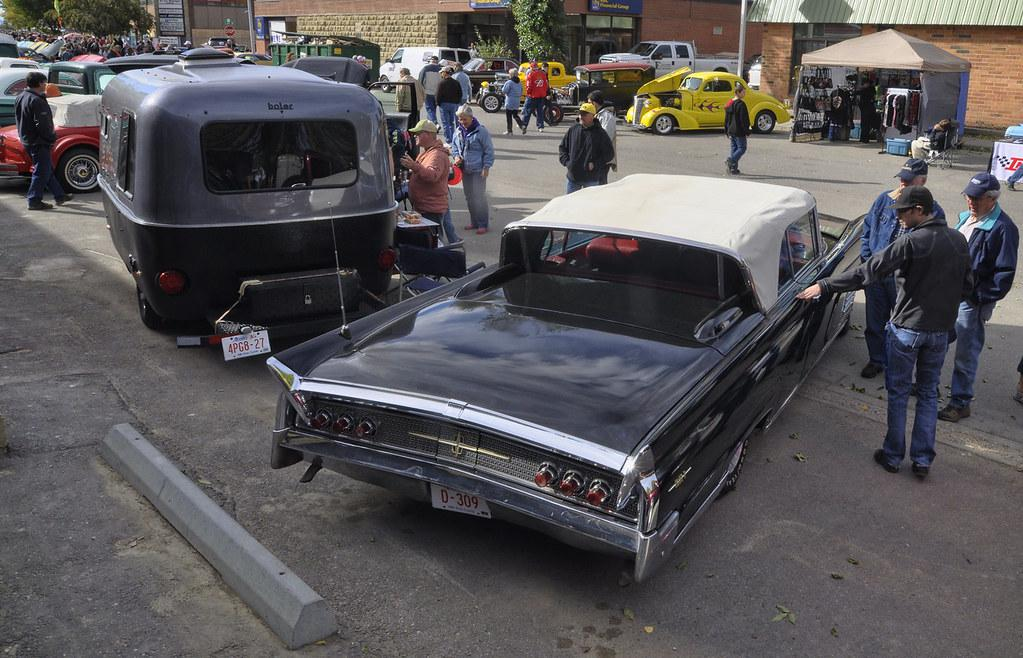boot-dent: (347, 303, 692, 443)
